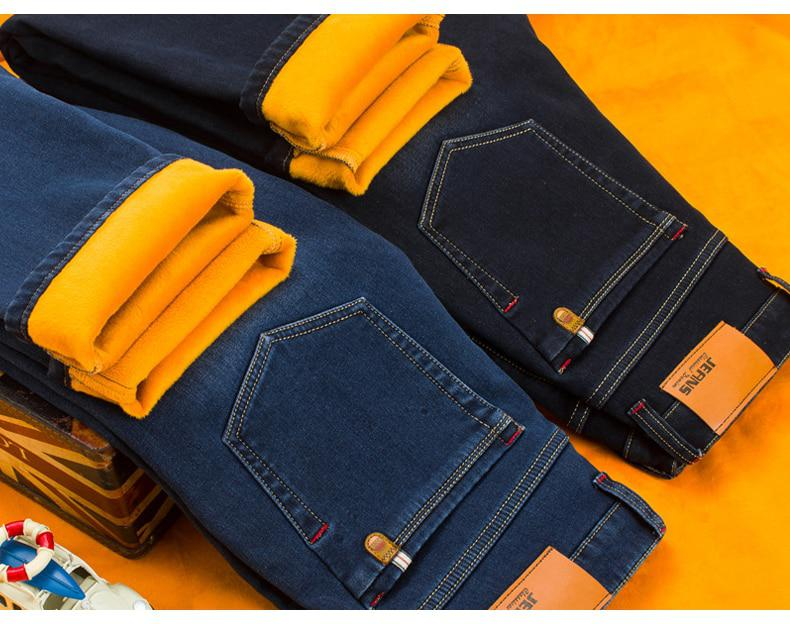jeans: (19, 22, 786, 624)
